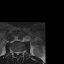CCS_stenosis: (17, 49, 18, 56)
LFS_stenosis: (20, 50, 21, 54)
LLS_stenosis: (18, 50, 20, 55)
RFS_stenosis: (13, 49, 15, 54)
RLS_normal: (15, 50, 17, 55)
